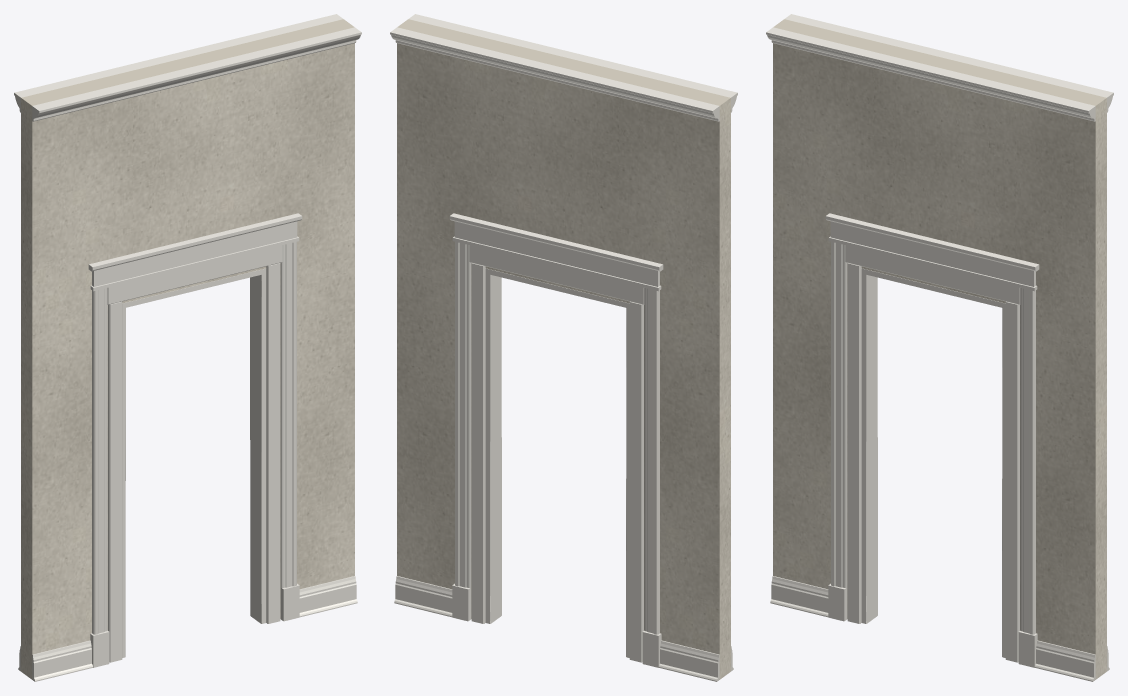
File: interior_wall_doorway.glb
3 views of the same model, side by side, from view 1: azimuth 30°, elevation 25°; view 2: azimuth 150°, elevation 25°; view 3: azimuth 330°, elevation 25° (orthographic).
Visible parts, largest first — view 1: interior_wall_doorway_plaster, molduras, interior_wall_doorway_frame; view 2: interior_wall_doorway_plaster, molduras, interior_wall_doorway_frame; view 3: interior_wall_doorway_plaster, molduras, interior_wall_doorway_frame.
Part boxes in pixels (x1,y1,x2,y2): interior_wall_doorway_plaster: (21, 19, 354, 679); molduras: (14, 14, 361, 681); interior_wall_doorway_frame: (107, 245, 282, 662); interior_wall_doorway_plaster: (397, 19, 730, 679); molduras: (390, 14, 737, 681); interior_wall_doorway_frame: (469, 245, 644, 662); interior_wall_doorway_plaster: (773, 19, 1106, 679); molduras: (766, 14, 1113, 681); interior_wall_doorway_frame: (845, 245, 1020, 662).
Size of the model in its own units: 2 by 3.4 by 0.27.
3 materials, 1 textured.
